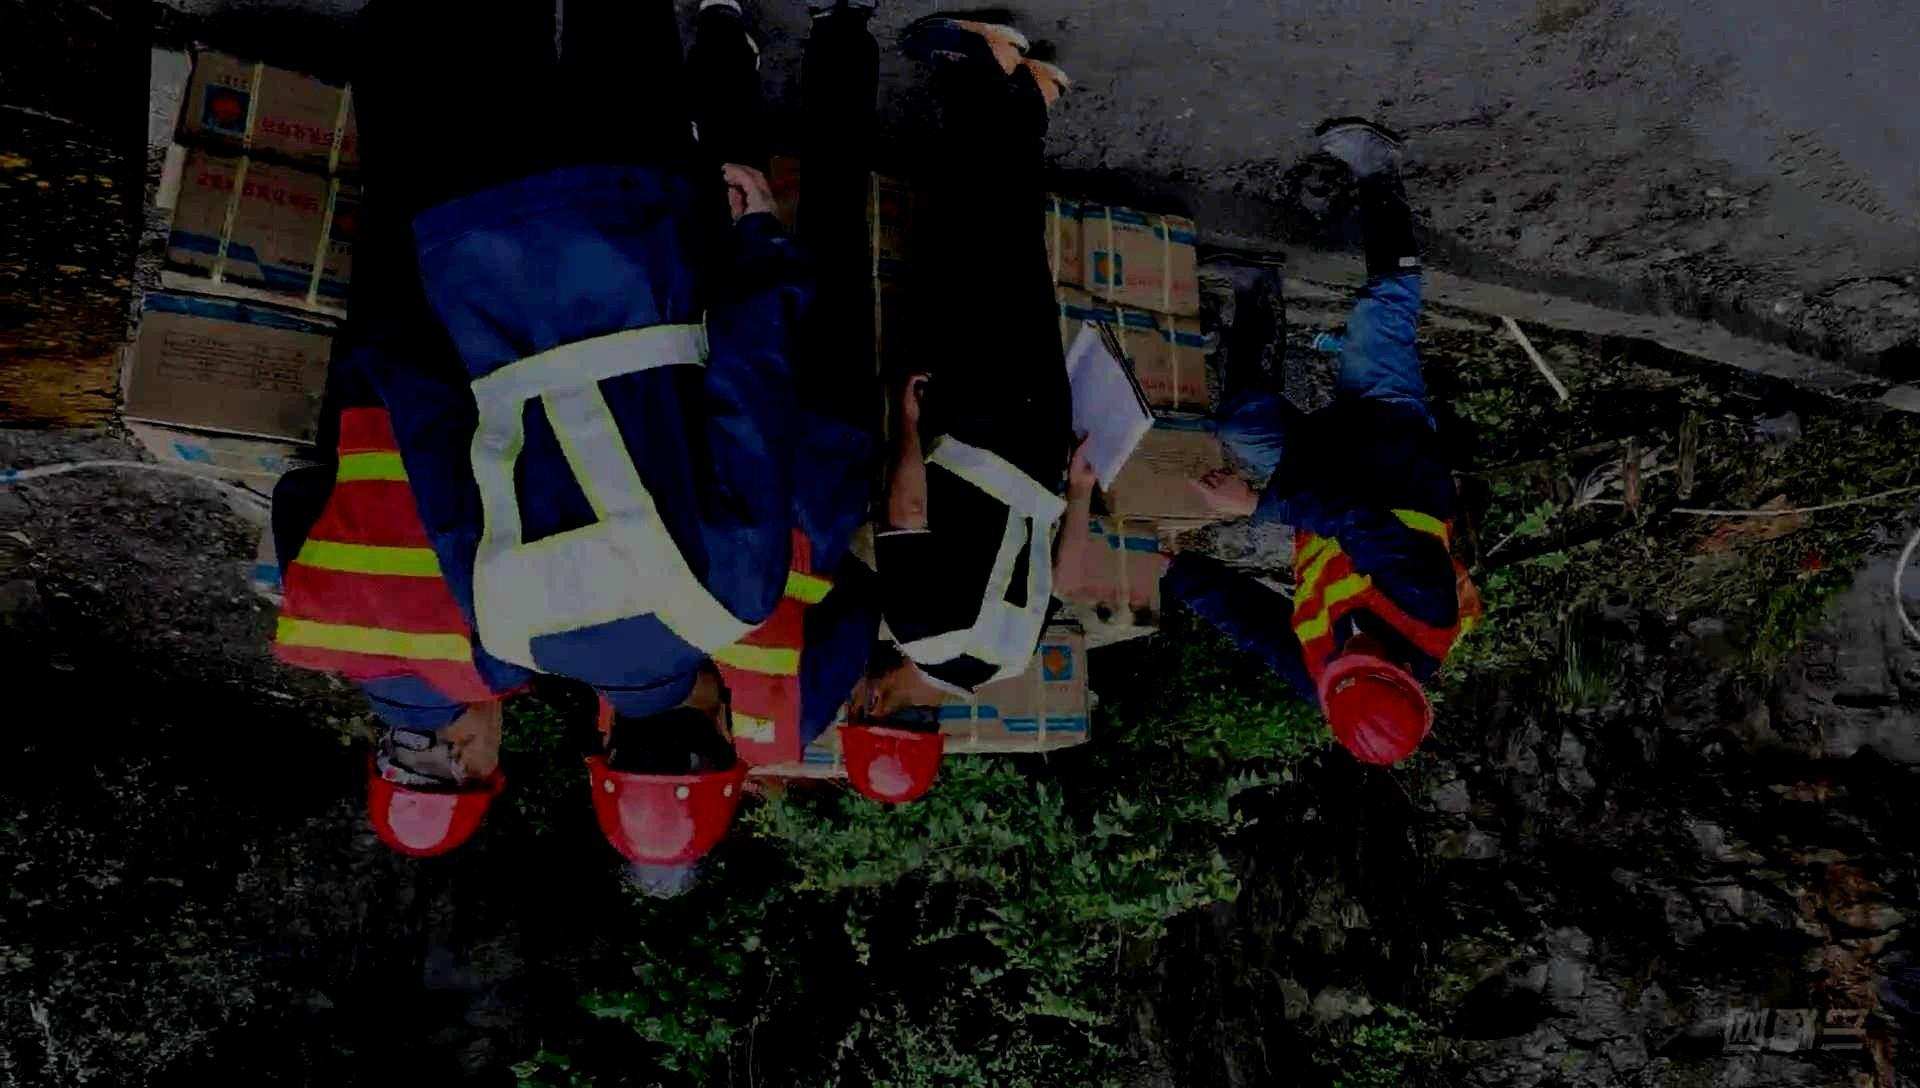helmet: (584, 655, 748, 872), (367, 698, 504, 857), (833, 655, 945, 804), (1316, 632, 1435, 766)
